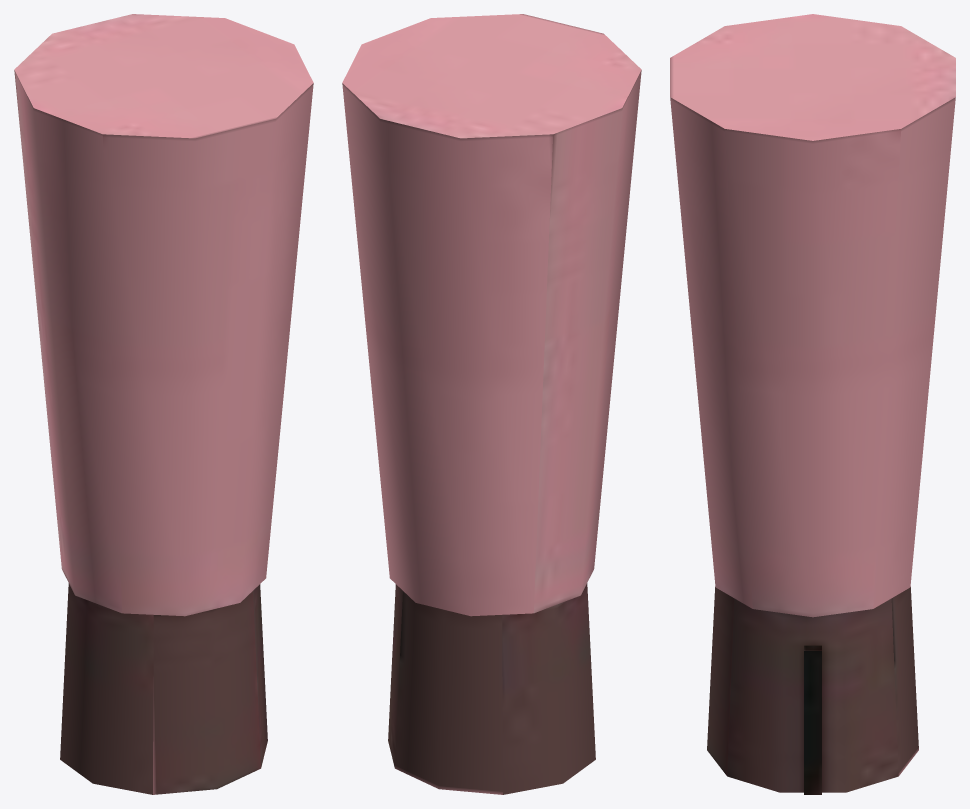
The model's file is cerdo_pata.glb.
3 views of the same model, side by side, from view 1: azimuth 30°, elevation 25°; view 2: azimuth 150°, elevation 25°; view 3: azimuth 270°, elevation 25° (orthographic).
Parts seen in each view (by area): view 1: cerdo_pata; view 2: cerdo_pata; view 3: cerdo_pata.
Boxes of the visible parts, left/top/right/bottom form: cerdo_pata: left=14, top=14, right=313, bottom=794; cerdo_pata: left=342, top=14, right=641, bottom=794; cerdo_pata: left=670, top=14, right=955, bottom=794.
Bounding box in the file's own units: 0.17 × 0.42 × 0.1617.
Materials: 1 (1 with a texture image).
